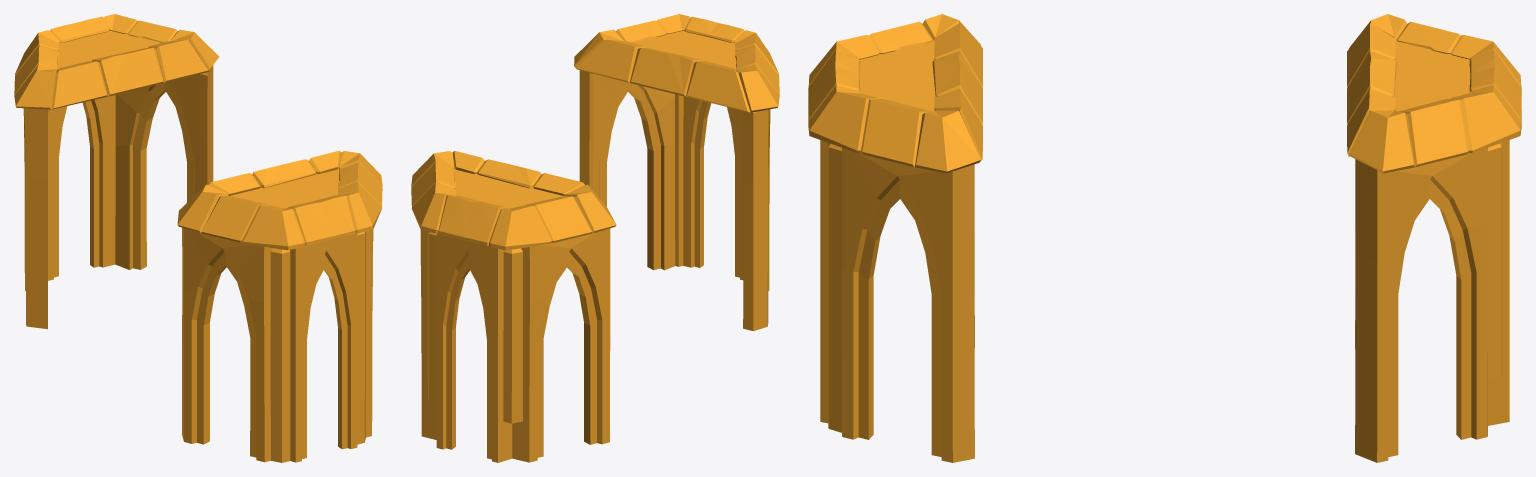
File: SM_Bridge_Stone_Big_Gazebo_A_Fantasy.fbx
The picture shows the model from 3 angles, left to right: view 1: azimuth 30°, elevation 25°; view 2: azimuth 150°, elevation 25°; view 3: azimuth 270°, elevation 25°; orthographic projection. The views are drawn at different scales.
Visible parts, largest first — view 1: SM_Bridge_Stone_Big_Gazebo_A_Fantasy; view 2: SM_Bridge_Stone_Big_Gazebo_A_Fantasy; view 3: SM_Bridge_Stone_Big_Gazebo_A_Fantasy.
Boxes of the visible parts, bbox=[...] form: SM_Bridge_Stone_Big_Gazebo_A_Fantasy: bbox=[14, 14, 382, 462]; SM_Bridge_Stone_Big_Gazebo_A_Fantasy: bbox=[411, 14, 779, 462]; SM_Bridge_Stone_Big_Gazebo_A_Fantasy: bbox=[808, 14, 1521, 462].
Size of the model in its own units: 5.11 by 6.01 by 11.5.
